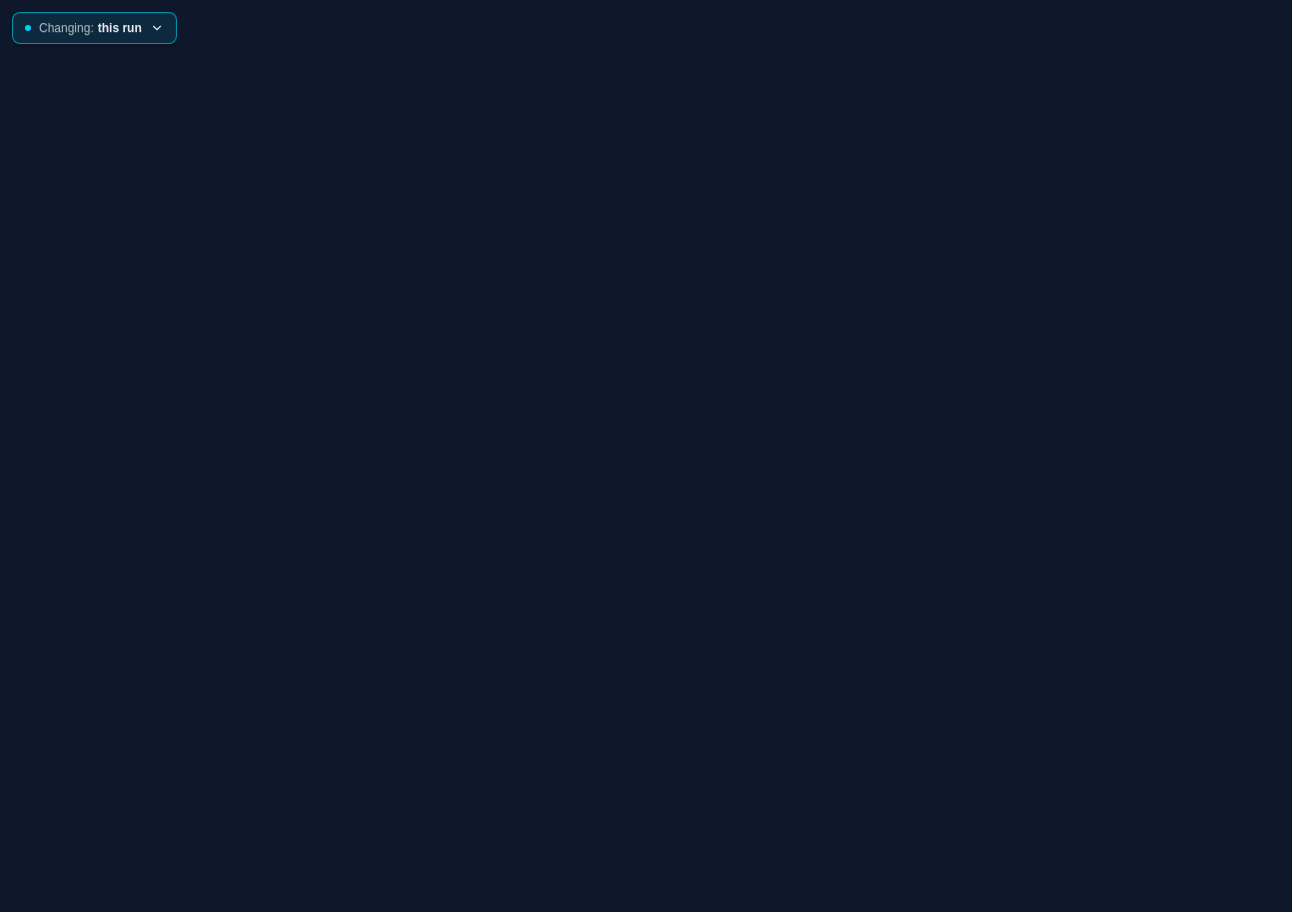
Test: a click outside closes the menu without switching
Click the button "Changing: this run": [94, 28] box [12, 12, 177, 44]
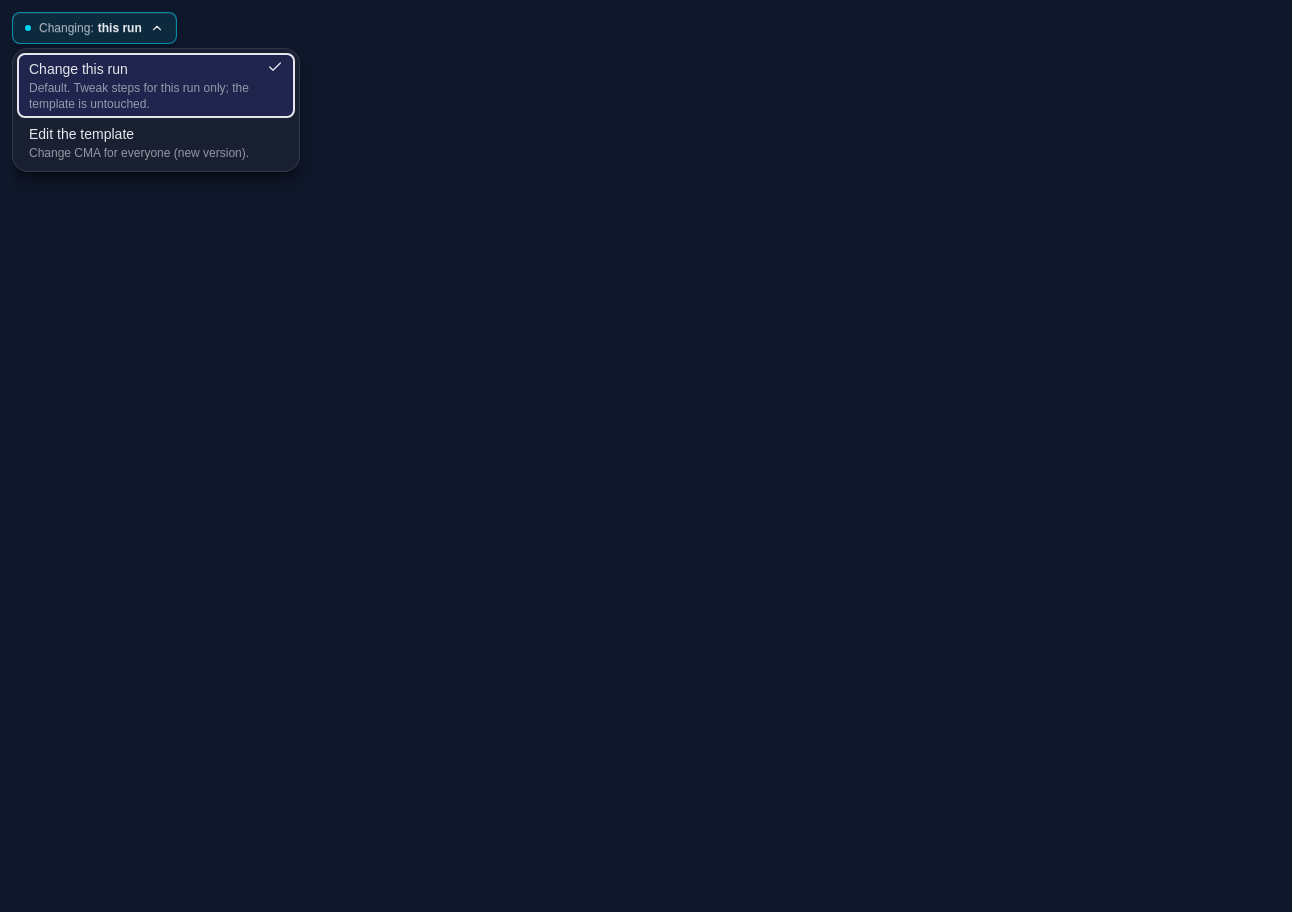
Click the element that starts with "Changing:": [652, 462] box [12, 12, 1291, 911]
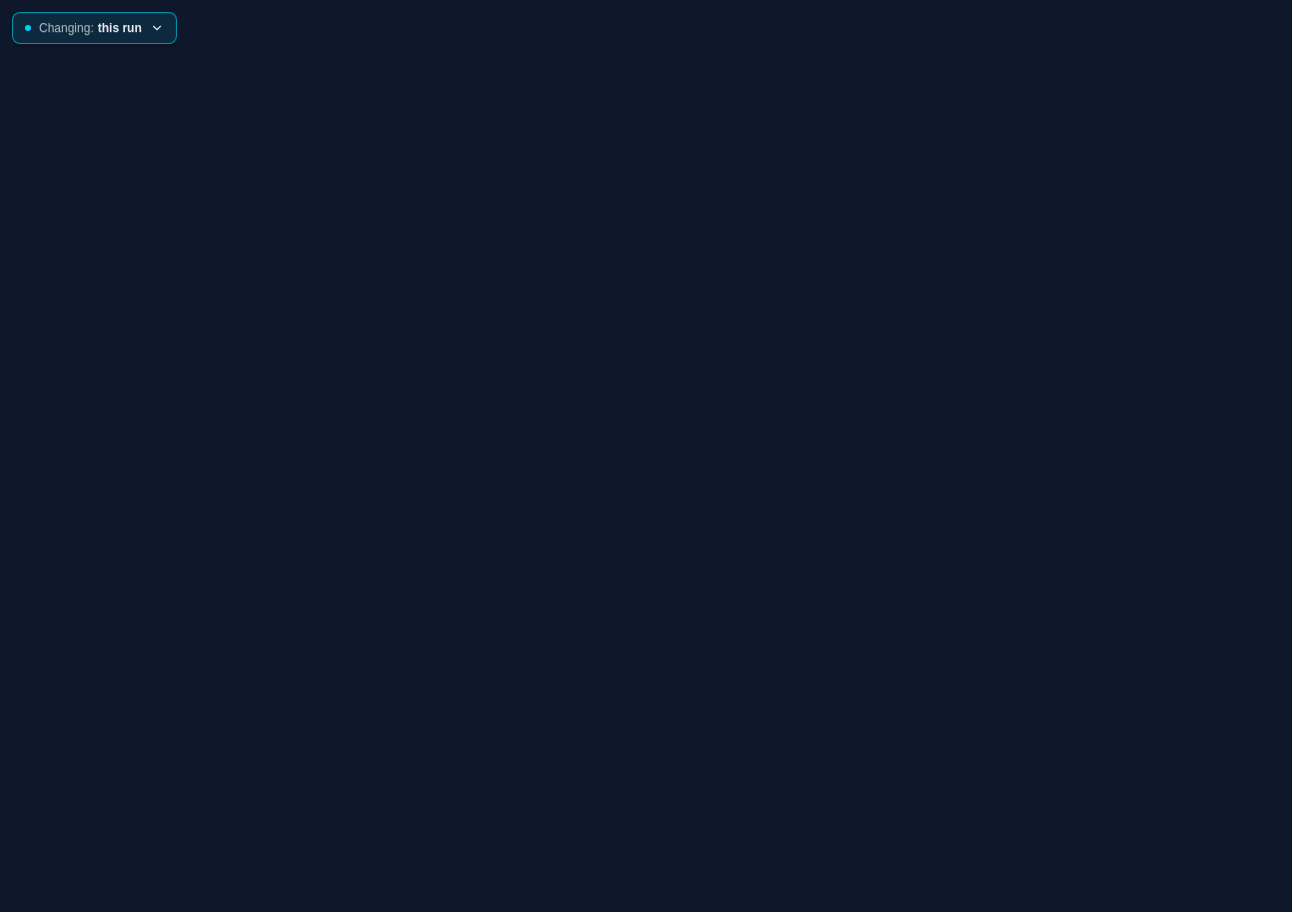
expect the menu is gone: met
